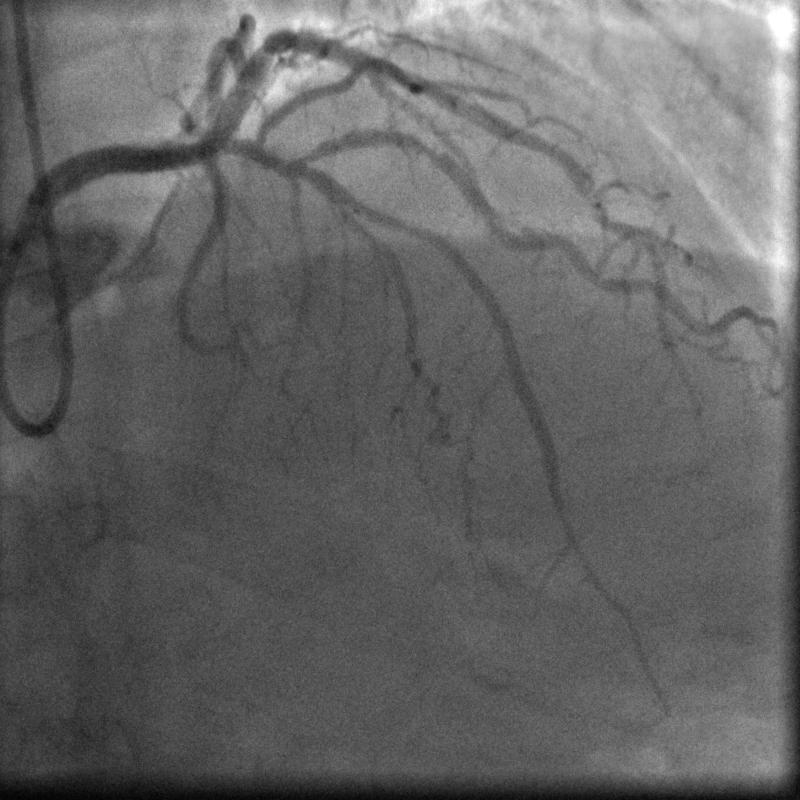Stenosis: (406, 127, 447, 170)
